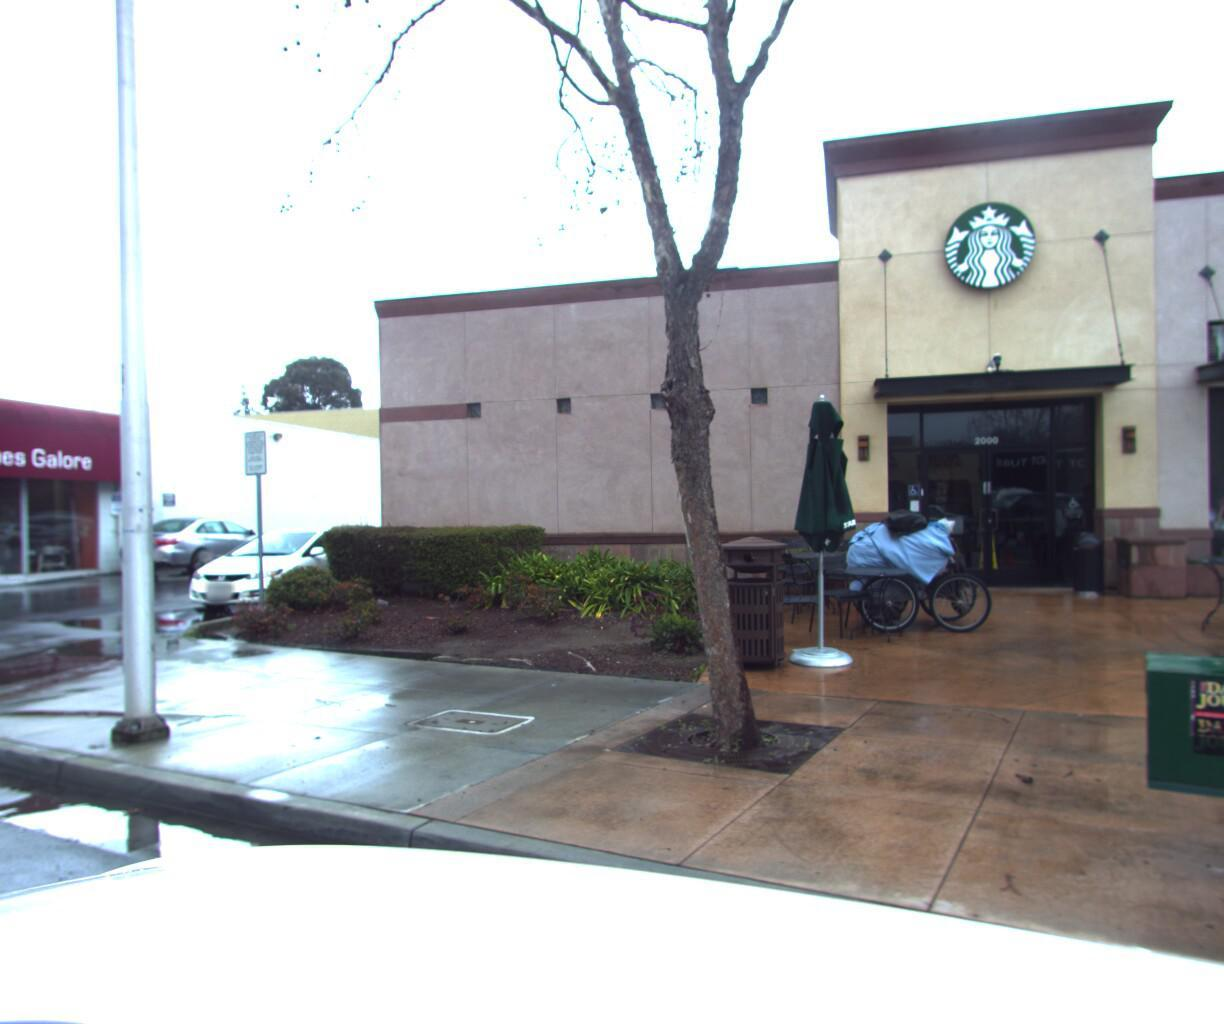car: (165, 518, 402, 612), (110, 516, 289, 588)
